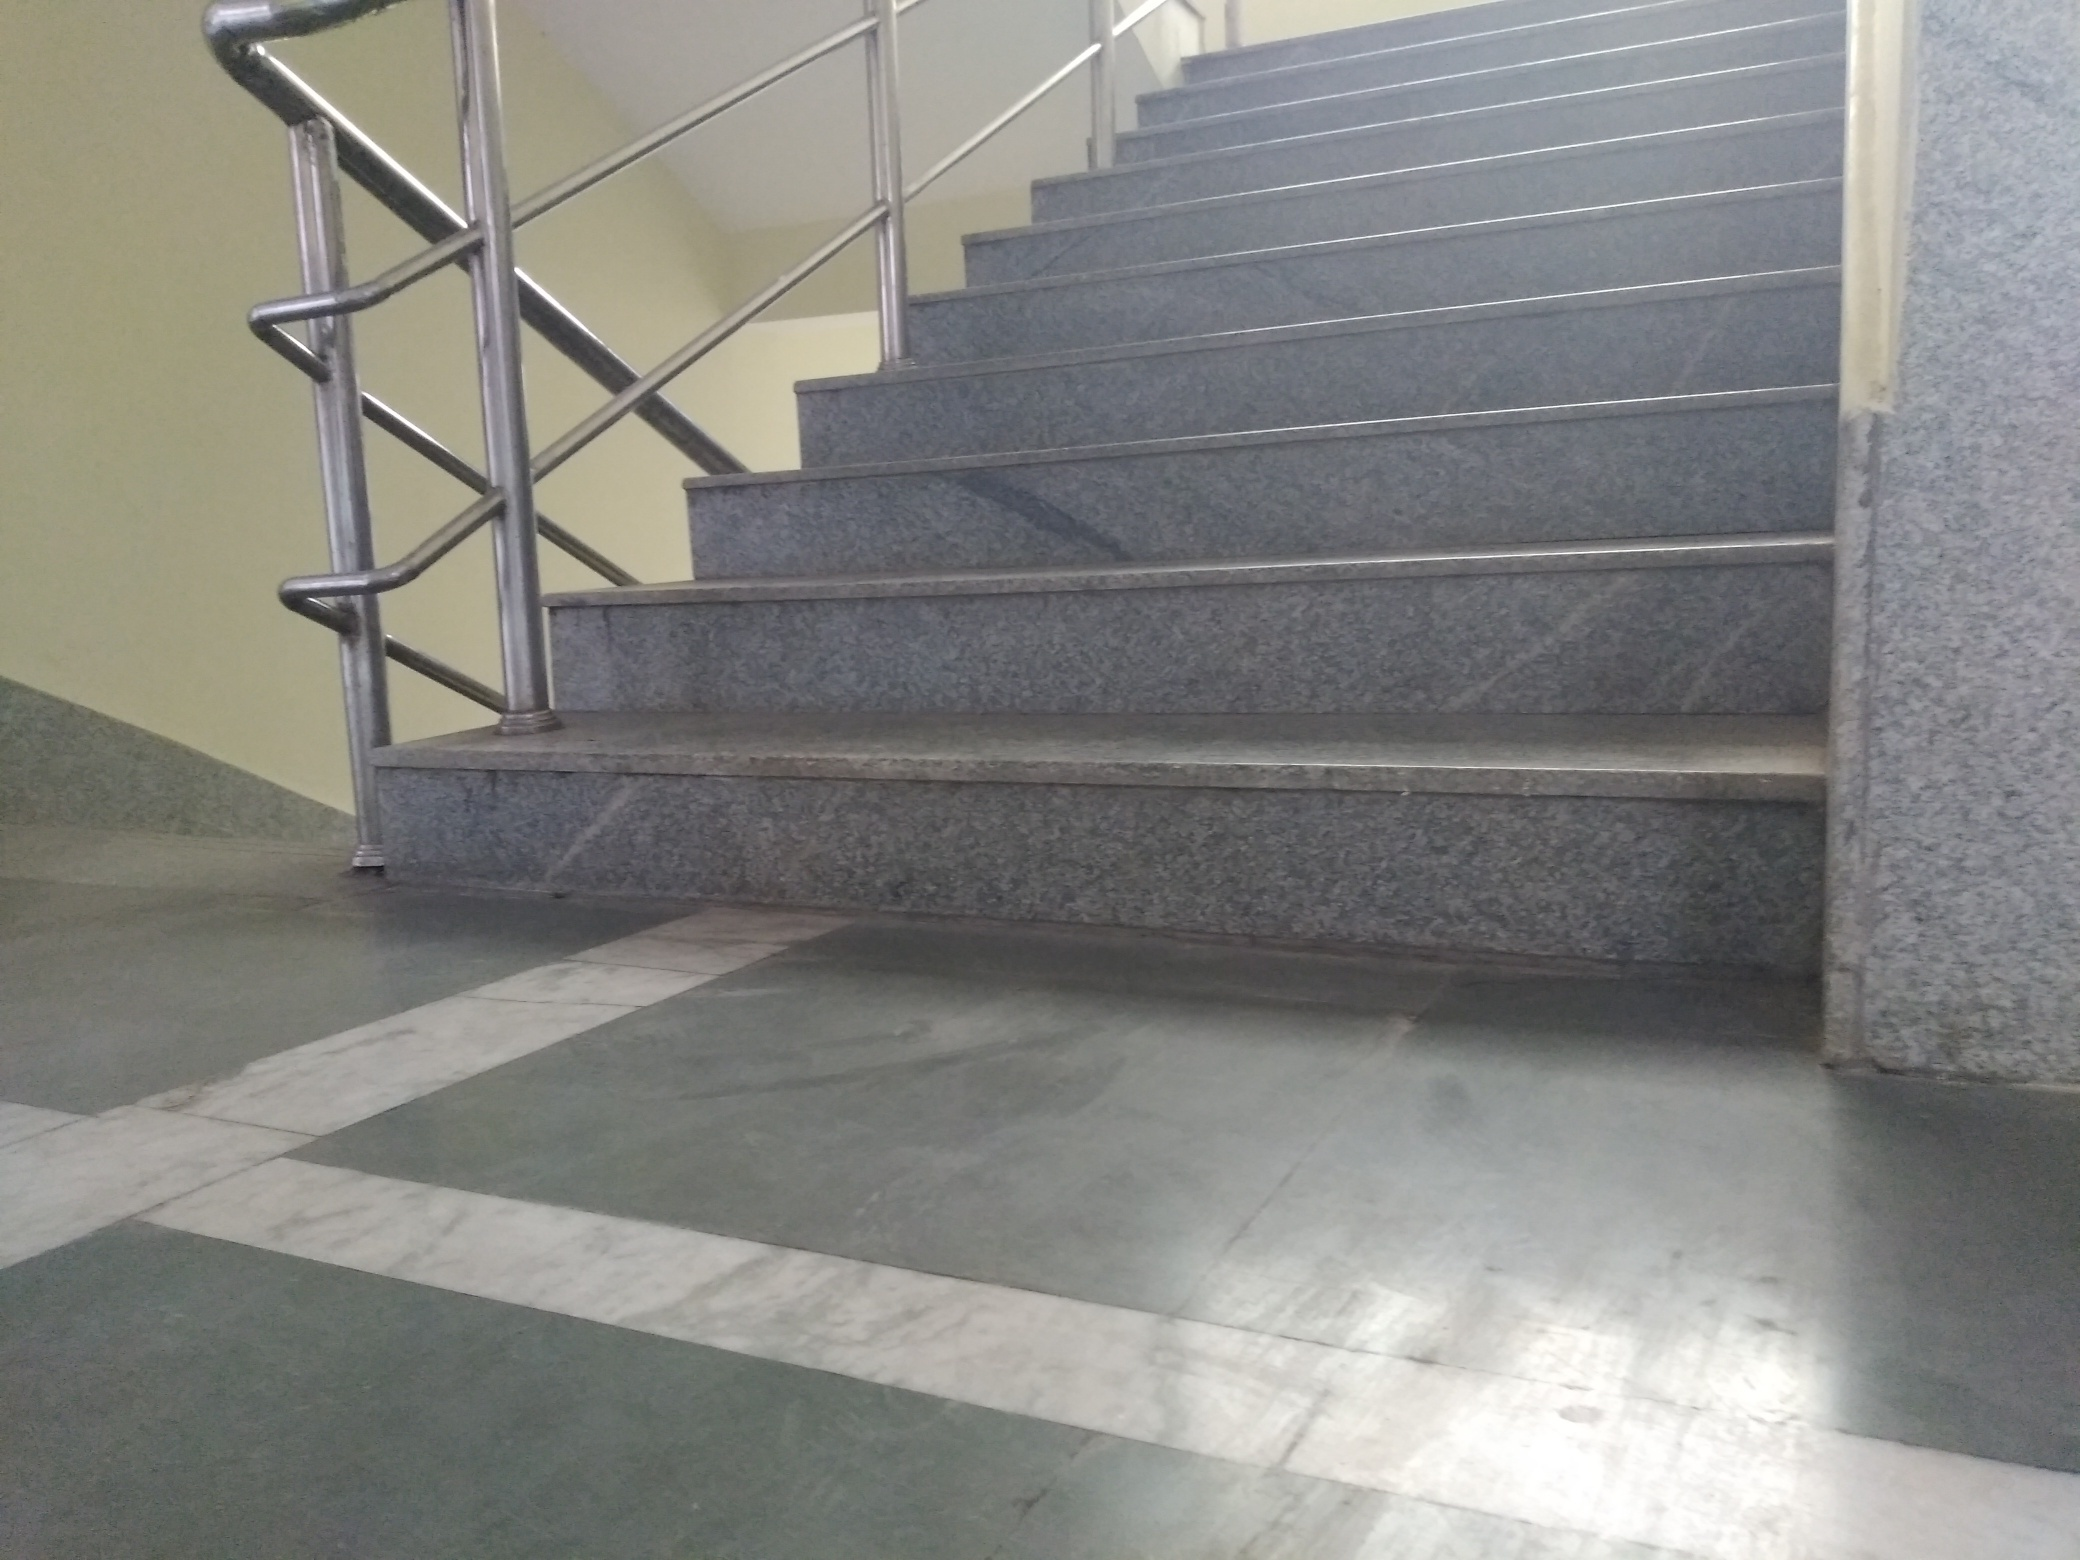stairs_up: (341, 2, 1844, 965)
